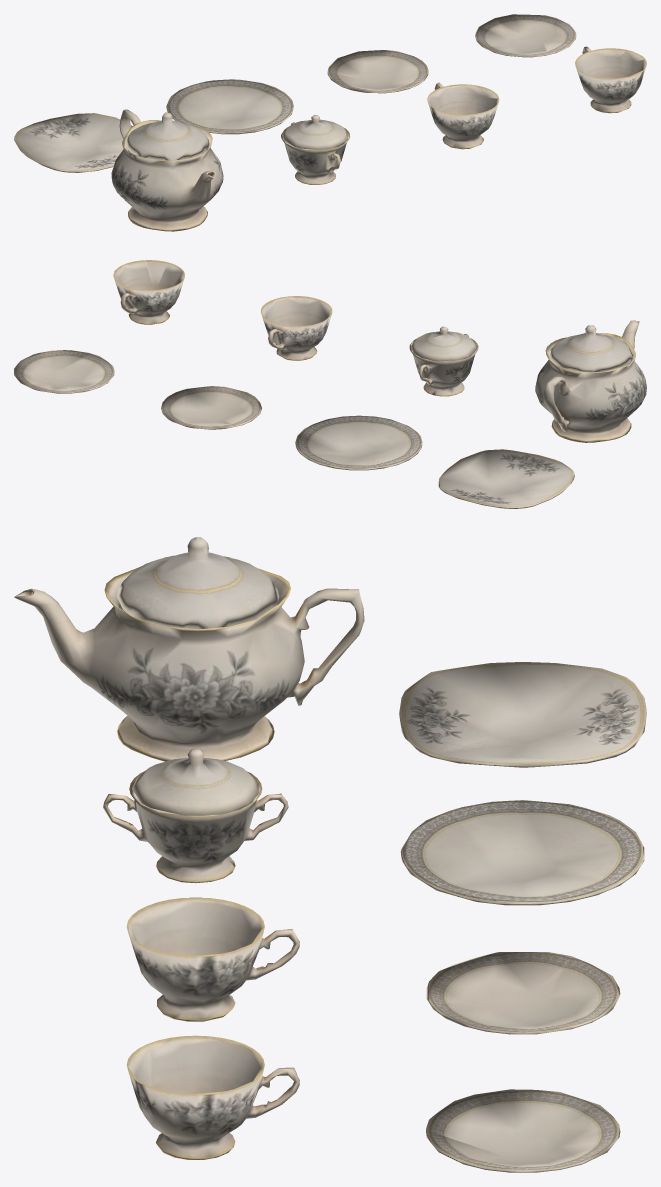
Rendered from tea_set_01.glb.
3 views of the same model, one above another, from view 1: azimuth 30°, elevation 25°; view 2: azimuth 150°, elevation 25°; view 3: azimuth 270°, elevation 25° (orthographic). The views are drawn at different scales.
Visible parts, largest first — view 1: tea_set_01_plate_large_square_01; view 2: tea_set_01_plate_large_square_01; view 3: tea_set_01_plate_large_square_01.
Part boxes in pixels (x1,y1,x2,y2): tea_set_01_plate_large_square_01: (14,14,646,231); tea_set_01_plate_large_square_01: (14,260,646,508); tea_set_01_plate_large_square_01: (14,537,646,1172).
Size of the model in its own units: 0.9176 by 0.165 by 0.4836.
Materials: 1 (1 with a texture image).
